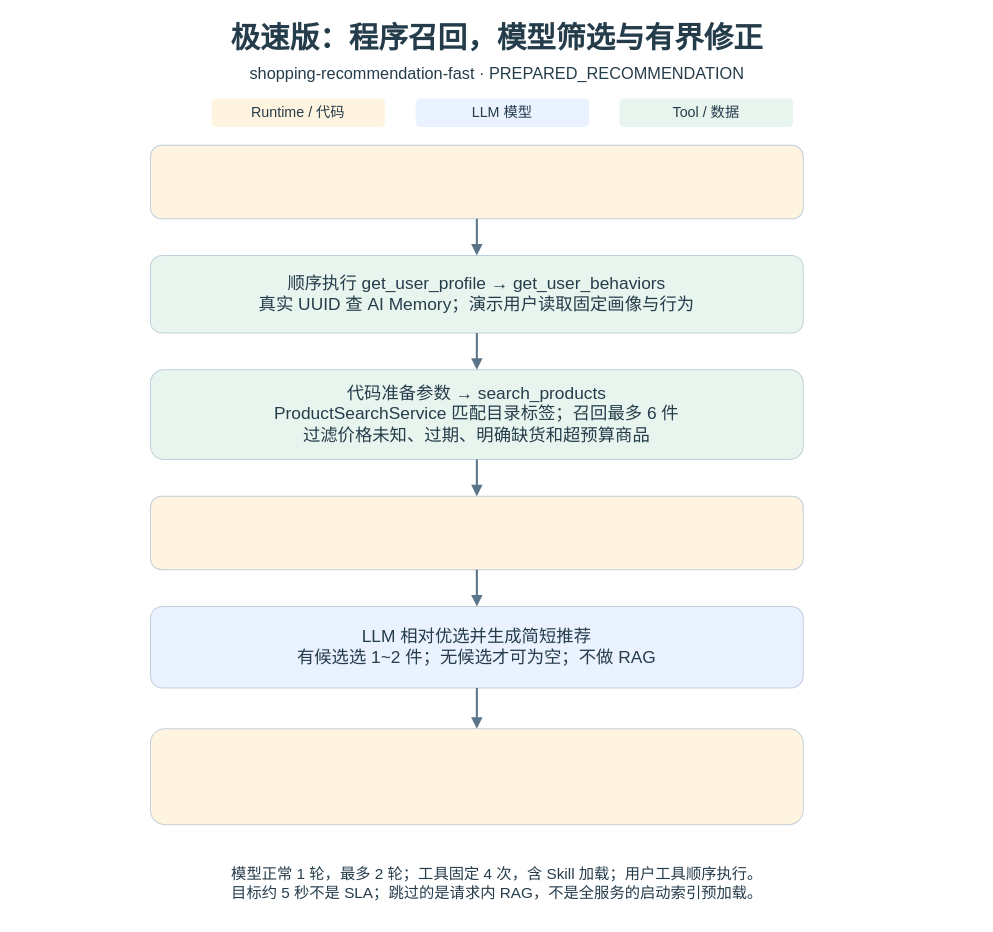
Image size: 993x932. Some labels were removed from this diagram. Here are the shapes that lost their labels. From the top down, the centre of each, then its label:
At [476,181]: "RecommendationWorkflows → WorkflowExecutor Runtime 主动加载 Skill；不请模型决定是否取数".
At [476,532]: "prepareFastAnswer()：压缩事实，构建 Prompt 用户资料 + 候选与标签 + outputSchema".
At [476,776]: "校验 SKU、数量、分值和预算 → 回填商品卡 无效则复用事实让模型修正一次；不重跑工具 仍无效明确失败；不按目录顺序代选商品".
